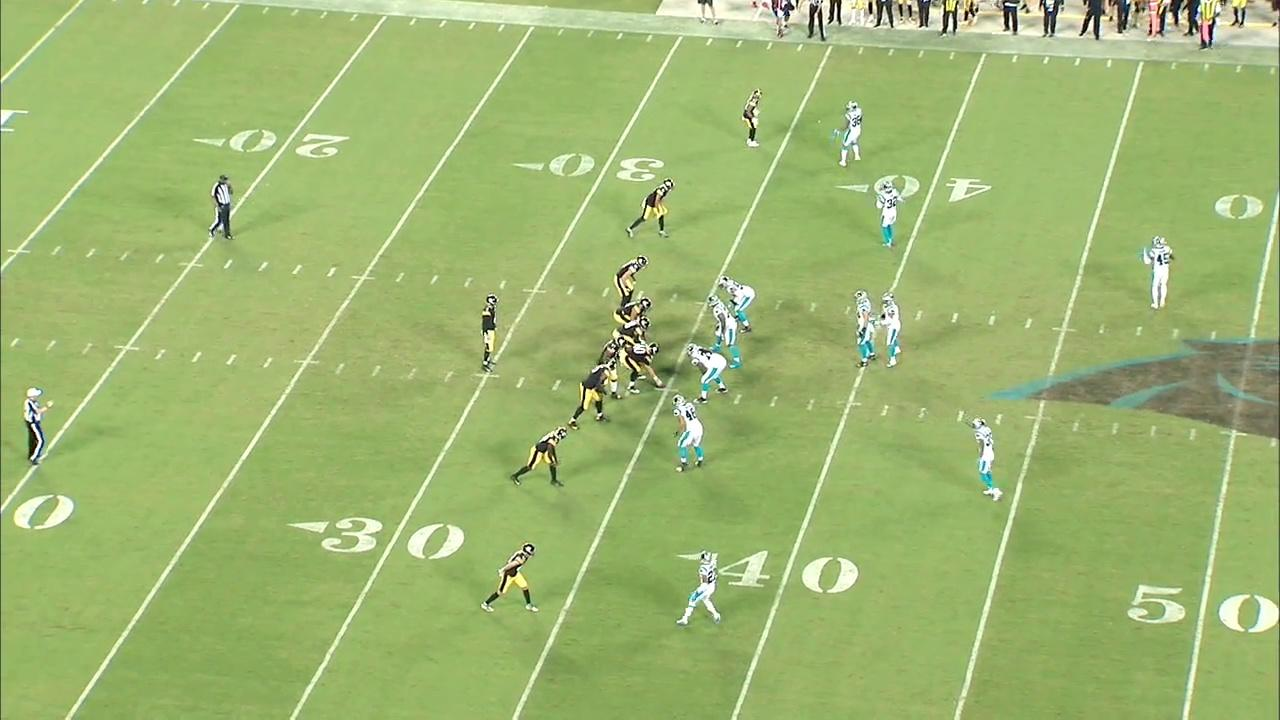defense: (676, 547, 721, 633), (668, 391, 706, 478), (684, 341, 730, 406), (970, 416, 1003, 505), (707, 294, 743, 372), (1140, 236, 1176, 313), (833, 97, 867, 168), (718, 273, 755, 337), (875, 178, 900, 252), (854, 289, 875, 373), (878, 292, 900, 368)
oline: (570, 358, 617, 431), (618, 342, 663, 395), (596, 335, 626, 403), (614, 299, 658, 341), (612, 318, 651, 352)
qb: (477, 293, 500, 380)
ref: (17, 383, 54, 467), (209, 172, 237, 243), (802, 0, 829, 44)
skill: (482, 543, 539, 617), (509, 424, 570, 493), (623, 176, 676, 242), (736, 84, 769, 152), (613, 256, 647, 314)
